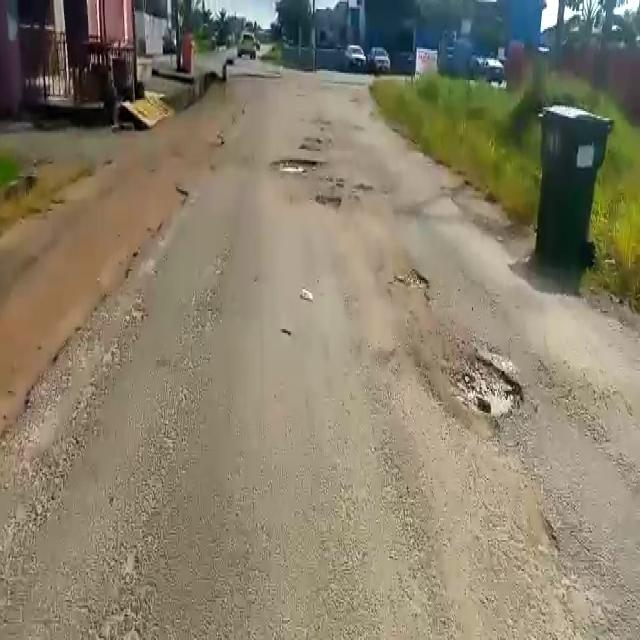Pothole: (444, 346, 526, 431), (390, 267, 429, 299), (274, 155, 322, 174), (314, 194, 342, 212)
